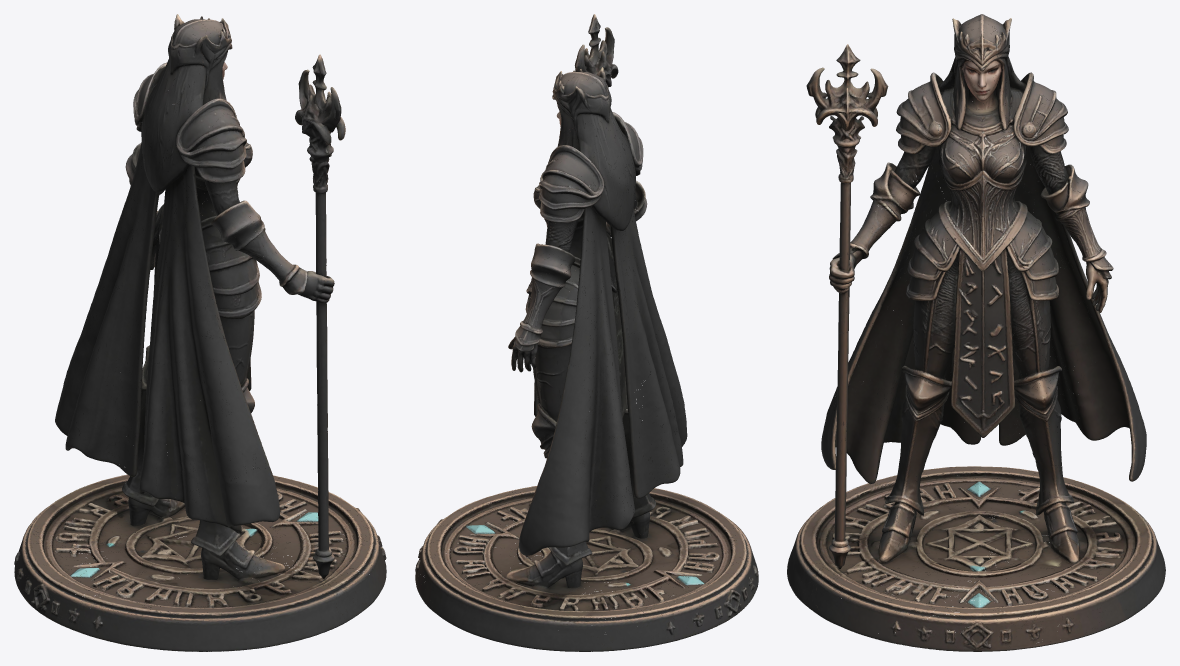
The model's file is queen.glb.
3 renders of one model, left to right at view 1: azimuth 30°, elevation 25°; view 2: azimuth 150°, elevation 25°; view 3: azimuth 270°, elevation 25°, orthographic. The views are drawn at different scales.
Parts seen in each view (by area): view 1: Object_8, Object_7, Object_9, Object_6, Object_4, Object_5, Object_2, Object_3, Object_10; view 2: Object_2, Object_3, Object_6, Object_5, Object_4, Object_7, Object_9, Object_8, Object_10; view 3: Object_2, Object_5, Object_8, Object_6, Object_7, Object_3, Object_9, Object_4, Object_10.
Boxes of the visible parts, left/top/right/bottom form: Object_8: left=78, top=55, right=386, bottom=651; Object_7: left=78, top=70, right=386, bottom=650; Object_9: left=33, top=54, right=381, bottom=628; Object_6: left=28, top=18, right=377, bottom=616; Object_4: left=14, top=61, right=378, bottom=599; Object_5: left=15, top=14, right=386, bottom=631; Object_2: left=14, top=143, right=311, bottom=577; Object_3: left=14, top=65, right=300, bottom=568; Object_10: left=38, top=21, right=355, bottom=622; Object_2: left=415, top=217, right=674, bottom=651; Object_3: left=415, top=145, right=705, bottom=651; Object_6: left=429, top=70, right=743, bottom=621; Object_5: left=422, top=69, right=755, bottom=637; Object_4: left=418, top=125, right=720, bottom=641; Object_7: left=459, top=44, right=758, bottom=592; Object_9: left=447, top=14, right=754, bottom=624; Object_8: left=498, top=14, right=758, bottom=589; Object_10: left=442, top=67, right=750, bottom=612; Object_2: left=993, top=147, right=1165, bottom=646; Object_5: left=891, top=14, right=1139, bottom=651; Object_8: left=787, top=44, right=954, bottom=642; Object_6: left=832, top=14, right=1063, bottom=650; Object_7: left=796, top=69, right=973, bottom=648; Object_3: left=994, top=72, right=1145, bottom=643; Object_9: left=836, top=44, right=1021, bottom=649; Object_4: left=896, top=68, right=1141, bottom=650; Object_10: left=931, top=18, right=1026, bottom=642.
Bounding box in the file's own units: 61.8 × 100 × 61.71.
1 material, 1 textured.
